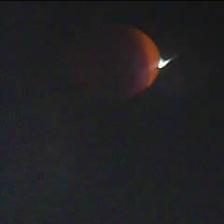fertile: (66, 23, 162, 99)
